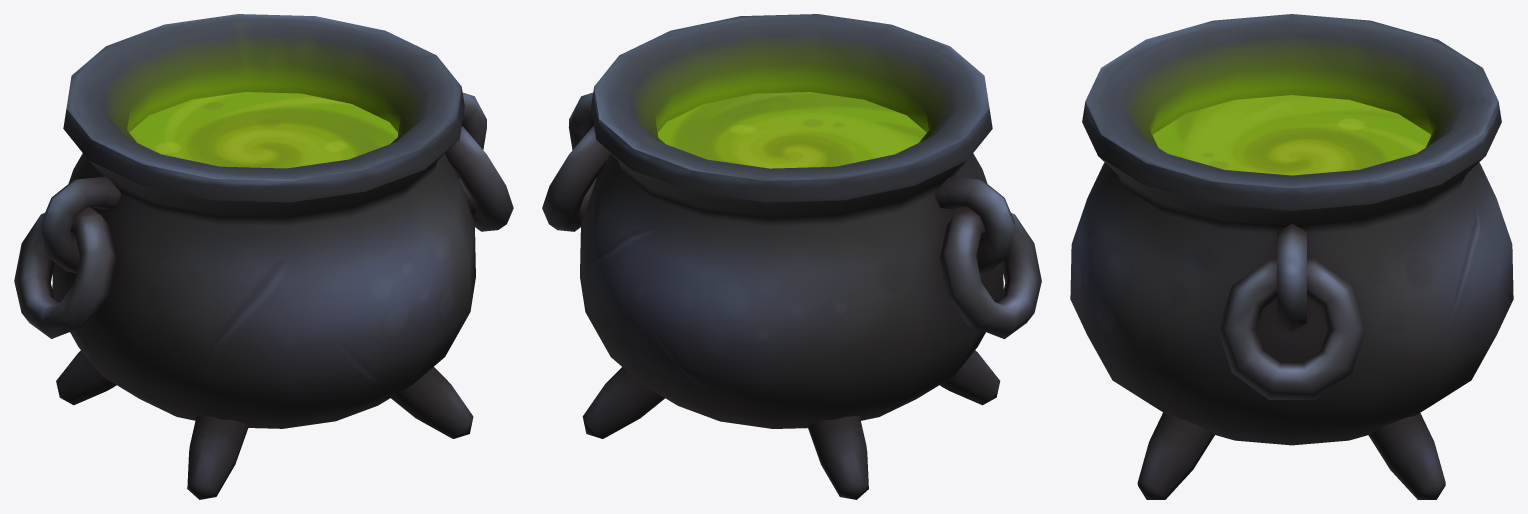
The model's file is cauldron.fbx.
The picture shows the model from 3 angles, left to right: view 1: azimuth 30°, elevation 25°; view 2: azimuth 150°, elevation 25°; view 3: azimuth 270°, elevation 25°; orthographic projection. The views are drawn at different scales.
Visible parts, largest first — view 1: cauldron; view 2: cauldron; view 3: cauldron.
Boxes of the visible parts, <box> form: cauldron: <box>14,14,513,499</box>; cauldron: <box>542,14,1041,499</box>; cauldron: <box>1070,14,1513,499</box>.
Bounding box in the file's own units: 159 × 105 × 126.
